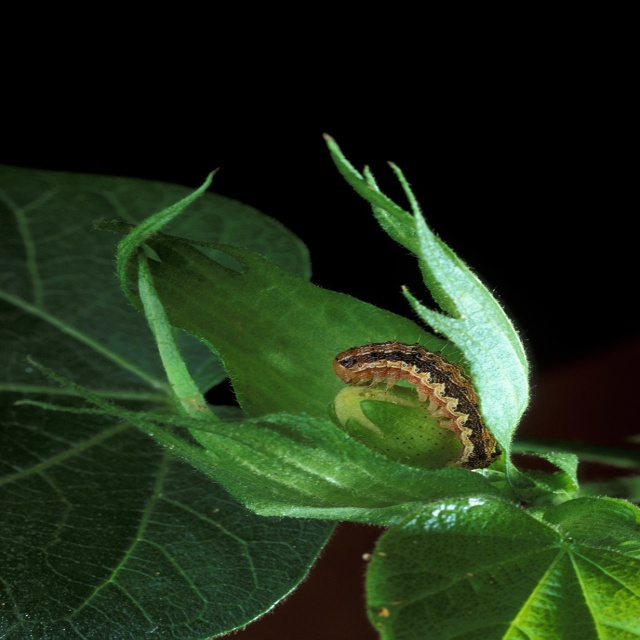Caterpillar: (334, 332, 503, 468)
